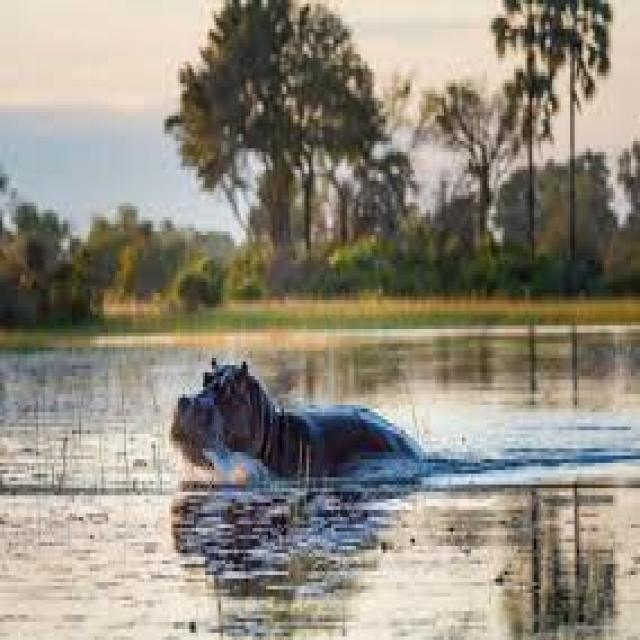Hippopotamus: (169, 354, 444, 499)
